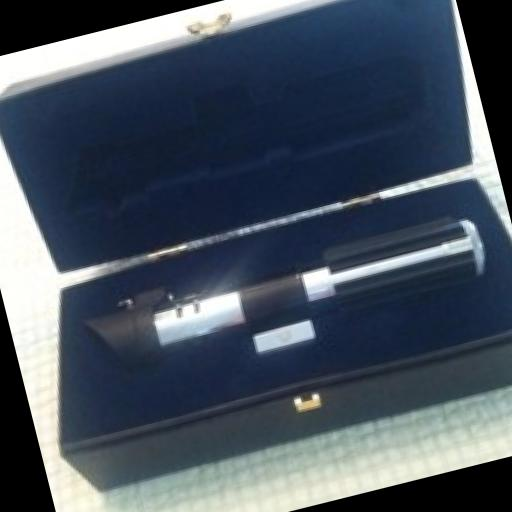lightsaber: (66, 200, 503, 401)
